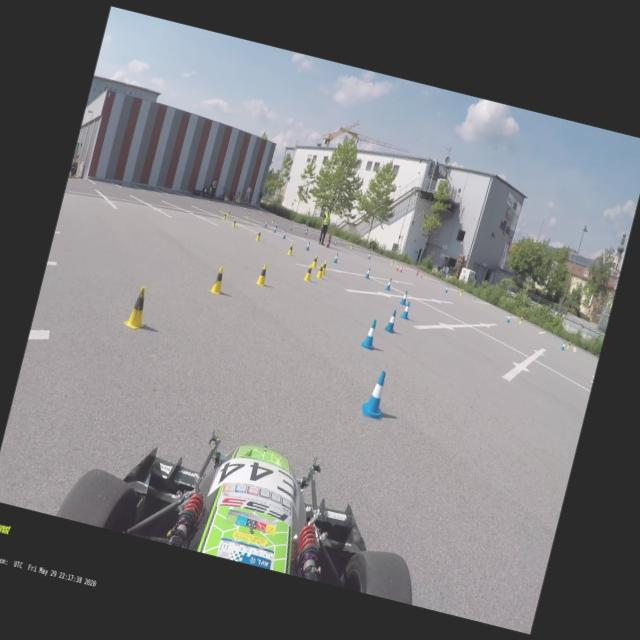blue_cone: (360, 368, 392, 420), (360, 318, 380, 350), (384, 308, 398, 332), (400, 300, 412, 320), (399, 289, 408, 304), (364, 266, 372, 279), (385, 277, 392, 290), (333, 252, 339, 263), (305, 240, 310, 250), (560, 341, 565, 350), (506, 314, 511, 322), (282, 230, 286, 239), (444, 284, 448, 292), (264, 219, 268, 227), (274, 221, 278, 229), (367, 252, 371, 259), (272, 226, 276, 233), (304, 228, 308, 235), (289, 223, 292, 230), (334, 239, 336, 245)
orange_cone: (399, 264, 403, 272), (420, 270, 423, 277), (396, 264, 398, 270), (416, 269, 418, 275)
yellow_cone: (122, 283, 154, 330), (208, 264, 228, 295), (255, 262, 270, 286), (304, 262, 314, 281), (316, 262, 324, 278), (320, 260, 328, 274), (311, 254, 318, 268), (254, 229, 262, 241), (287, 242, 294, 255), (230, 216, 237, 228), (566, 341, 571, 349), (519, 316, 523, 324), (458, 288, 462, 296), (222, 212, 226, 219), (390, 258, 394, 264), (246, 212, 250, 218), (270, 217, 274, 223), (227, 208, 230, 216), (350, 242, 352, 248)
